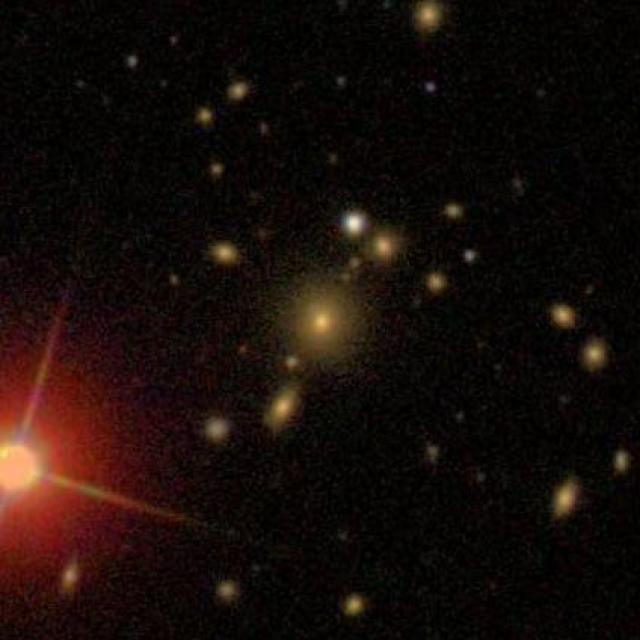galaxy: (275, 271, 380, 372), (260, 377, 304, 437), (361, 224, 407, 268), (546, 474, 587, 523), (411, 1, 452, 36), (205, 238, 247, 272), (582, 331, 613, 377), (59, 550, 88, 597), (198, 413, 235, 449), (212, 574, 247, 608), (547, 298, 579, 335), (340, 209, 373, 242), (505, 169, 534, 206), (341, 590, 368, 620), (255, 221, 278, 253), (227, 77, 252, 105), (424, 271, 451, 296), (122, 45, 144, 75), (471, 466, 491, 492), (425, 435, 442, 465), (195, 107, 216, 129), (443, 198, 464, 219), (283, 352, 303, 374), (614, 446, 630, 473), (461, 246, 481, 266), (333, 525, 352, 546), (422, 76, 442, 95), (323, 148, 342, 168), (333, 70, 350, 92), (164, 271, 183, 290), (209, 160, 227, 180), (257, 119, 274, 139), (582, 279, 598, 299), (349, 252, 363, 274), (237, 338, 250, 361), (453, 408, 468, 426), (535, 88, 551, 104), (166, 32, 181, 48), (157, 77, 170, 94), (74, 76, 86, 91)
star: (1, 282, 236, 617)
